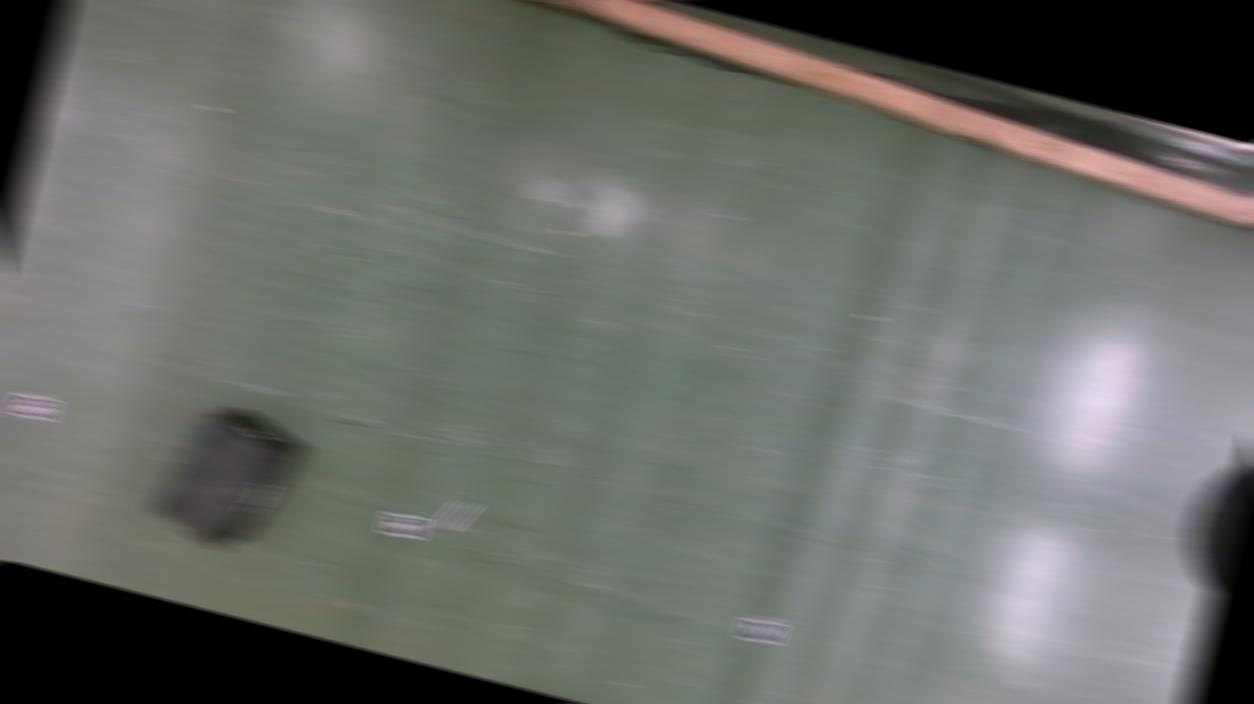probes: (438, 495, 476, 535)
rako: (142, 390, 312, 563)
